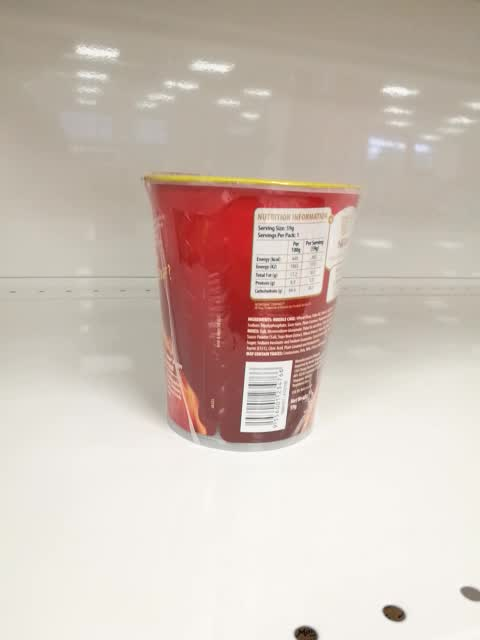maggi: (142, 169, 364, 453)
